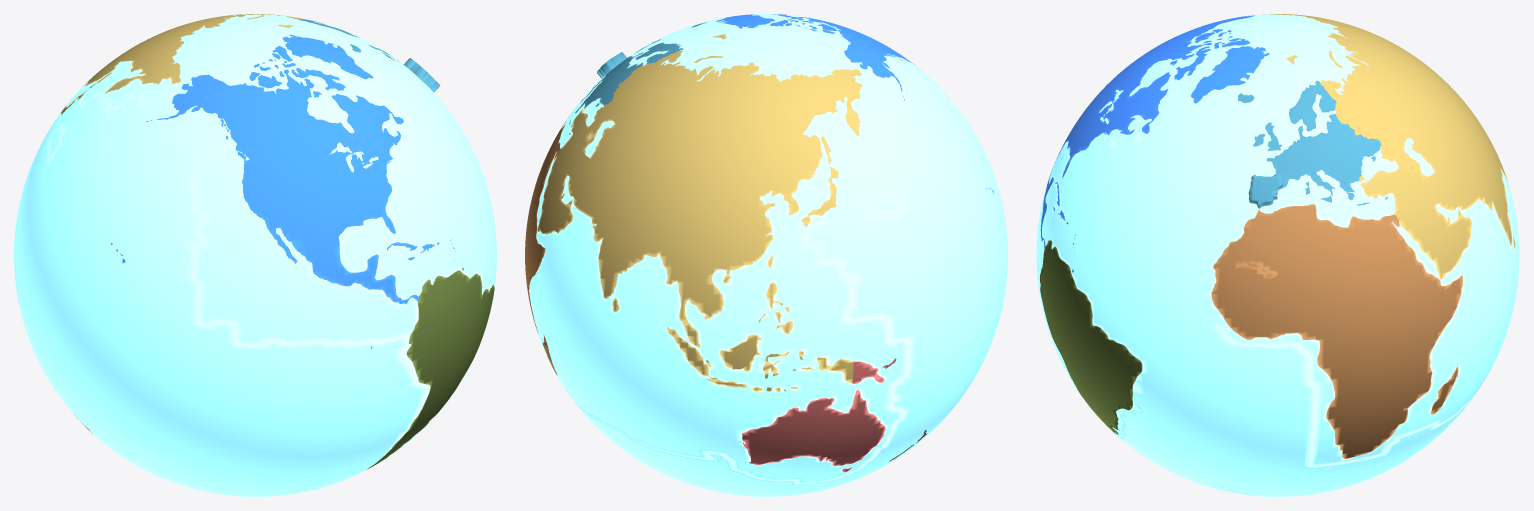
File: planeta1.glb
The picture shows the model from 3 angles, left to right: view 1: azimuth 30°, elevation 25°; view 2: azimuth 150°, elevation 25°; view 3: azimuth 270°, elevation 25°; orthographic projection.
Visible parts, largest first — view 1: Sphere; view 2: Sphere; view 3: Sphere.
Part boxes in pixels (box(x1,y1,x2,y2)): Sphere: box(14, 14, 496, 496); Sphere: box(525, 14, 1007, 496); Sphere: box(1036, 14, 1519, 496).
Bounding box in the file's own units: 17.8 × 17.8 × 17.8.
